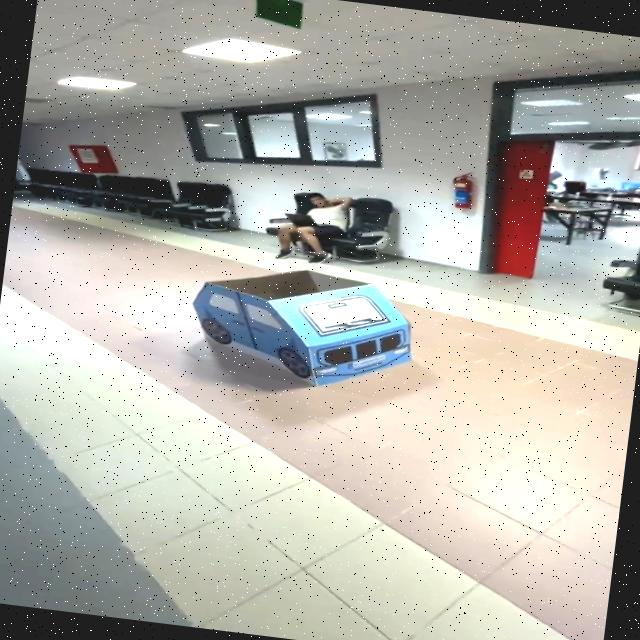blue_car: (171, 249, 440, 404)
